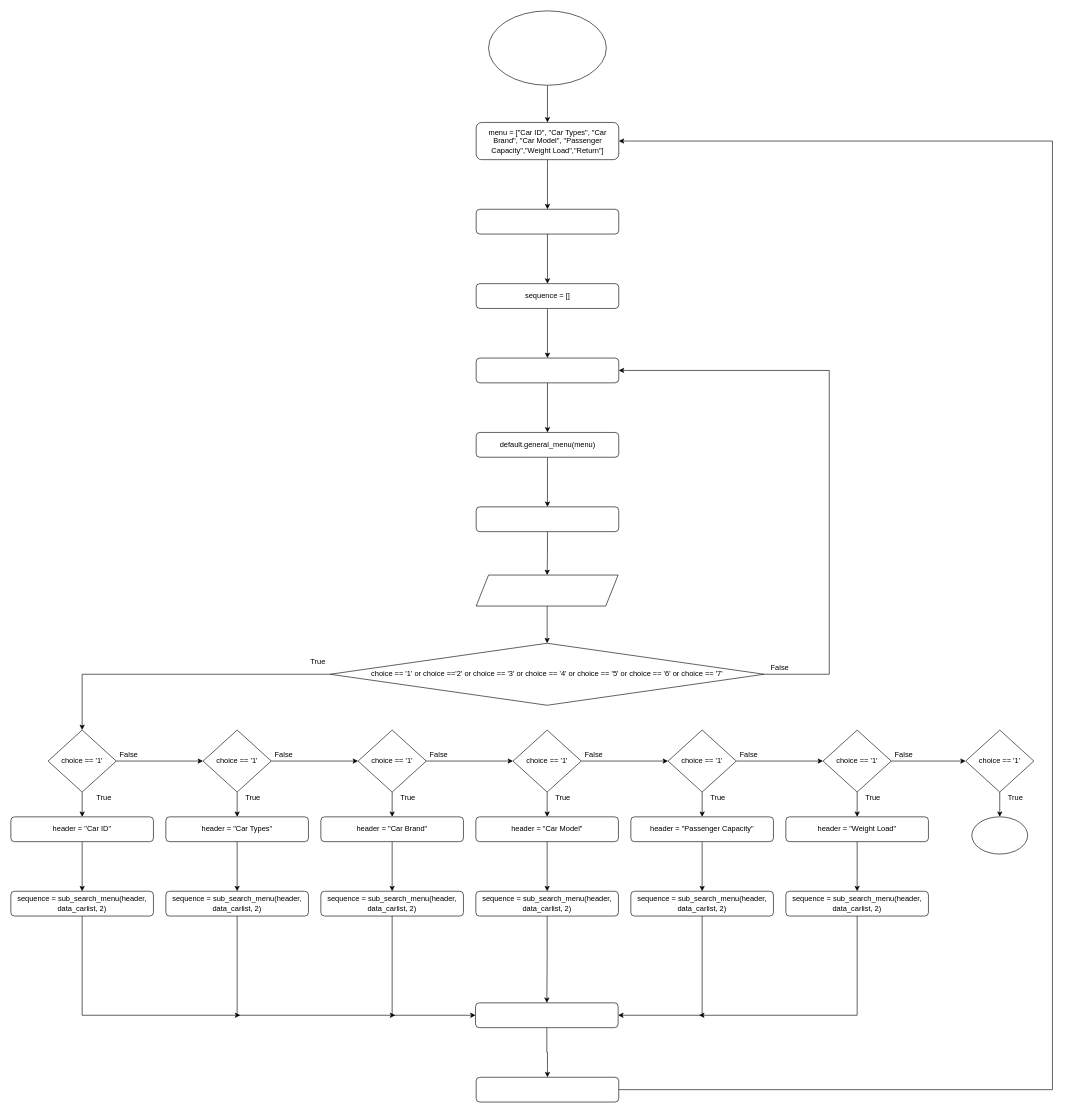
Some shapes in this 1068 by 1113 pixel diagram are drawn without their labels. The centre of each missing label's shape, as x and y in pixels:
default.print_sorttable(data_carlist, 4, sequence, space_cars): point (546, 1015)
default.print_title(title): point (547, 370)
PRINT(""): point (547, 1089)
PRINT("Please Select: "): point (547, 519)
READ choice: point (547, 590)
Return: point (999, 835)
searchcar_menu(user_data, data_carlist, space_cars): point (547, 47)
title = user_data[2] + ", you can search a car here": point (547, 221)
